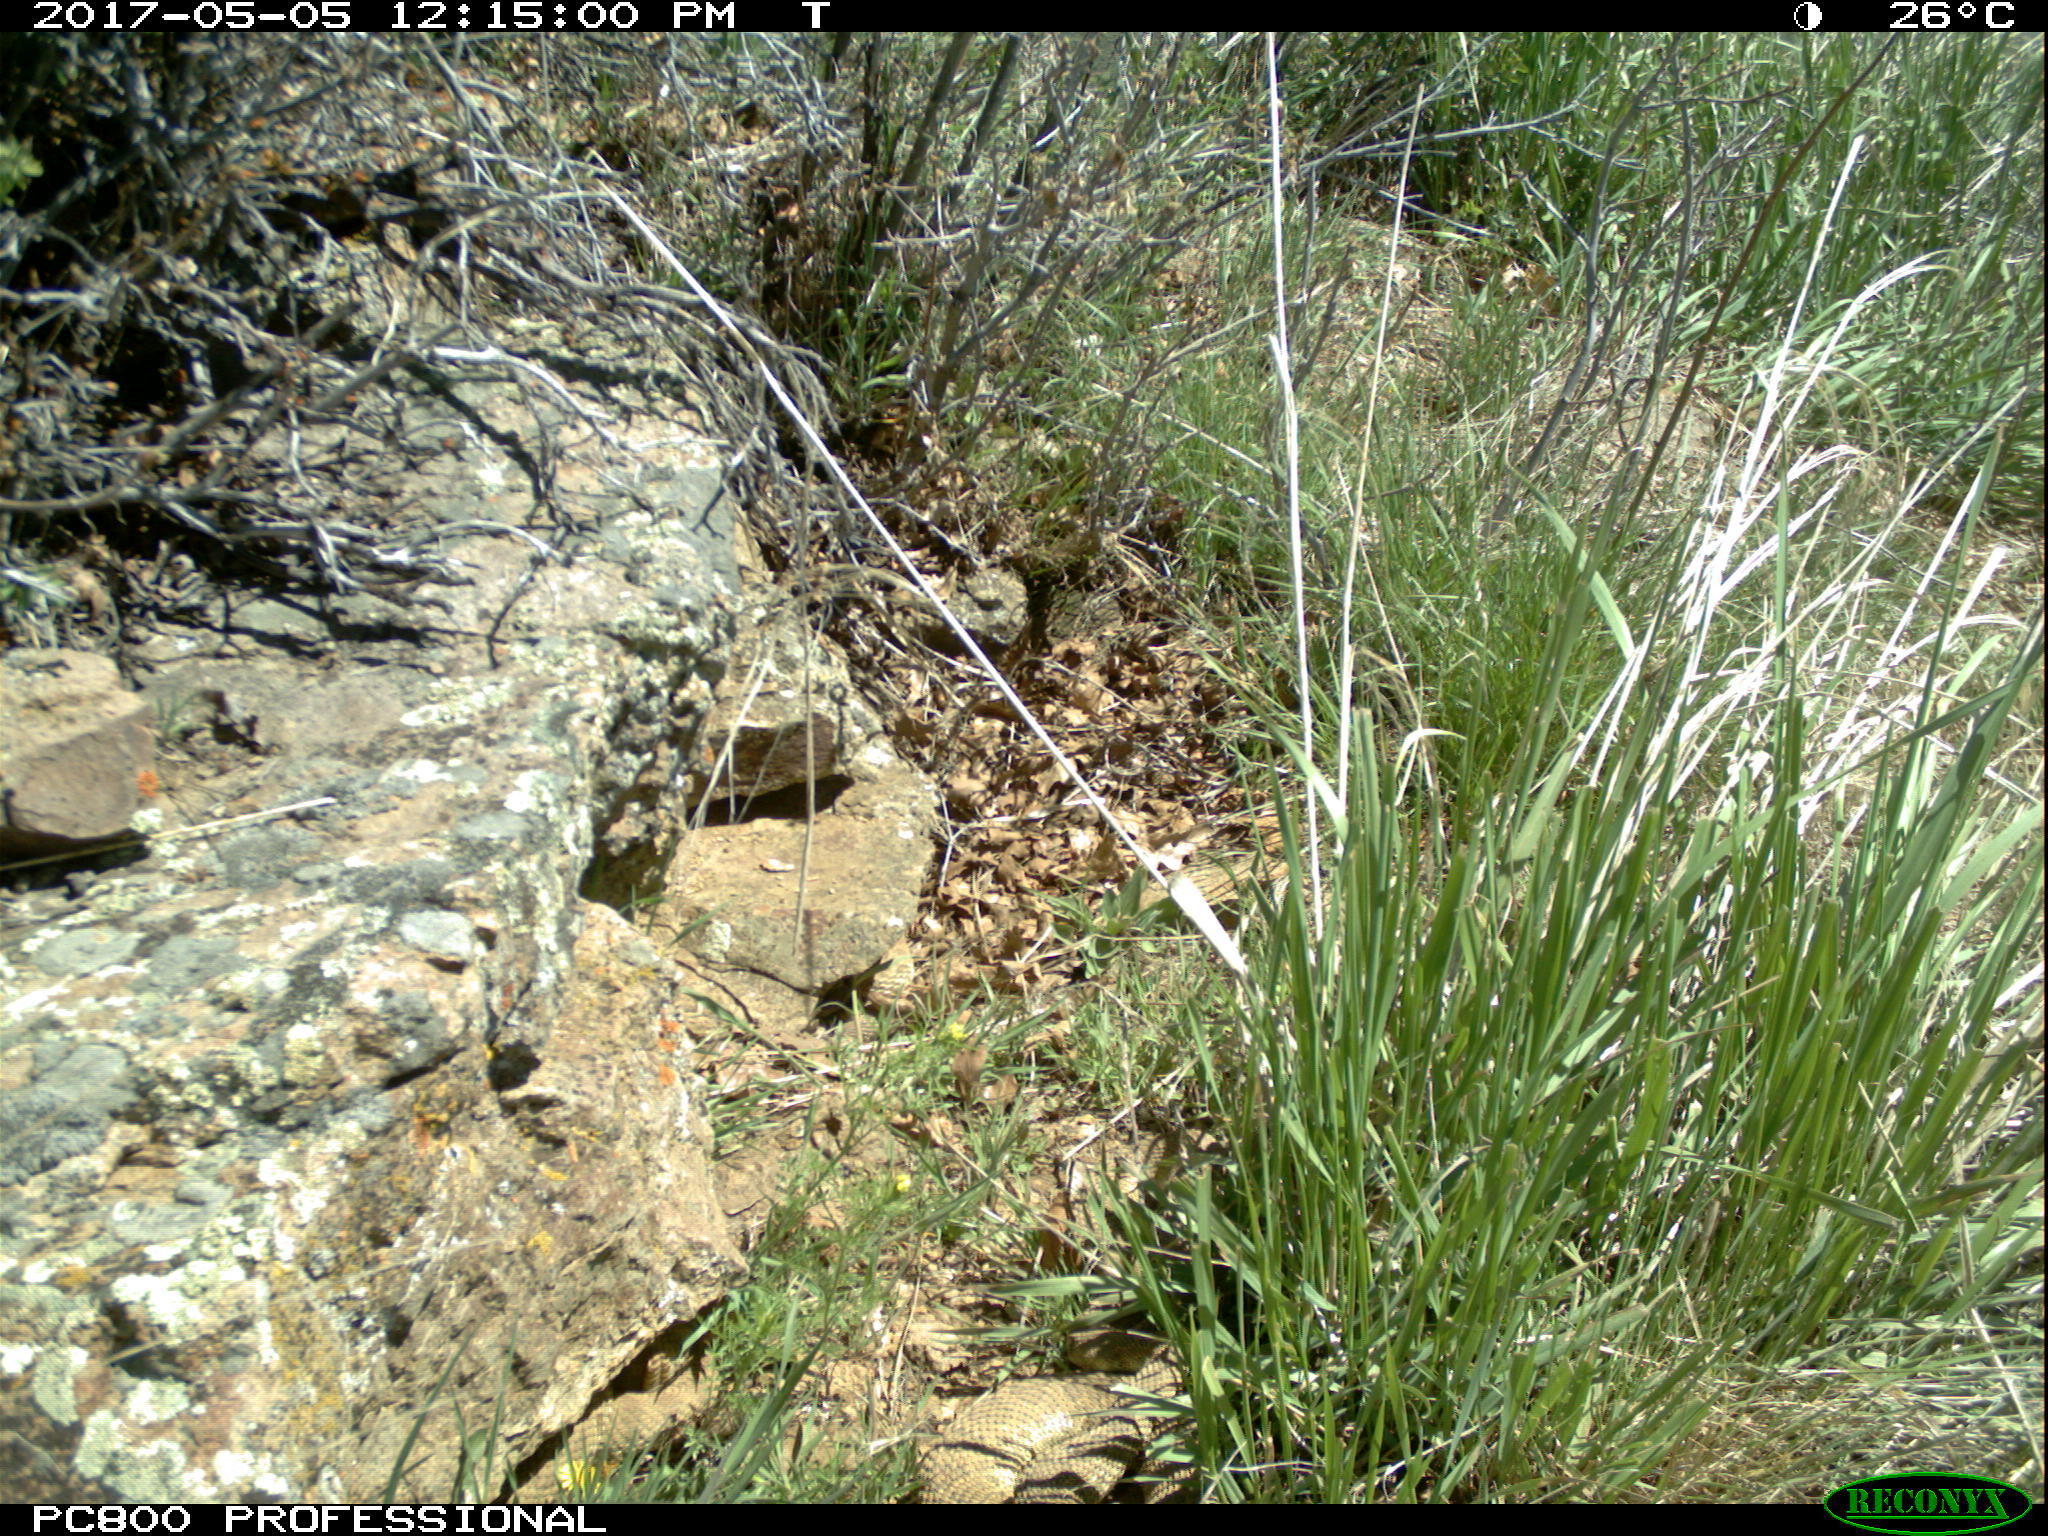snake: (924, 1375, 1176, 1504), (521, 1346, 719, 1475), (837, 950, 921, 1029)
